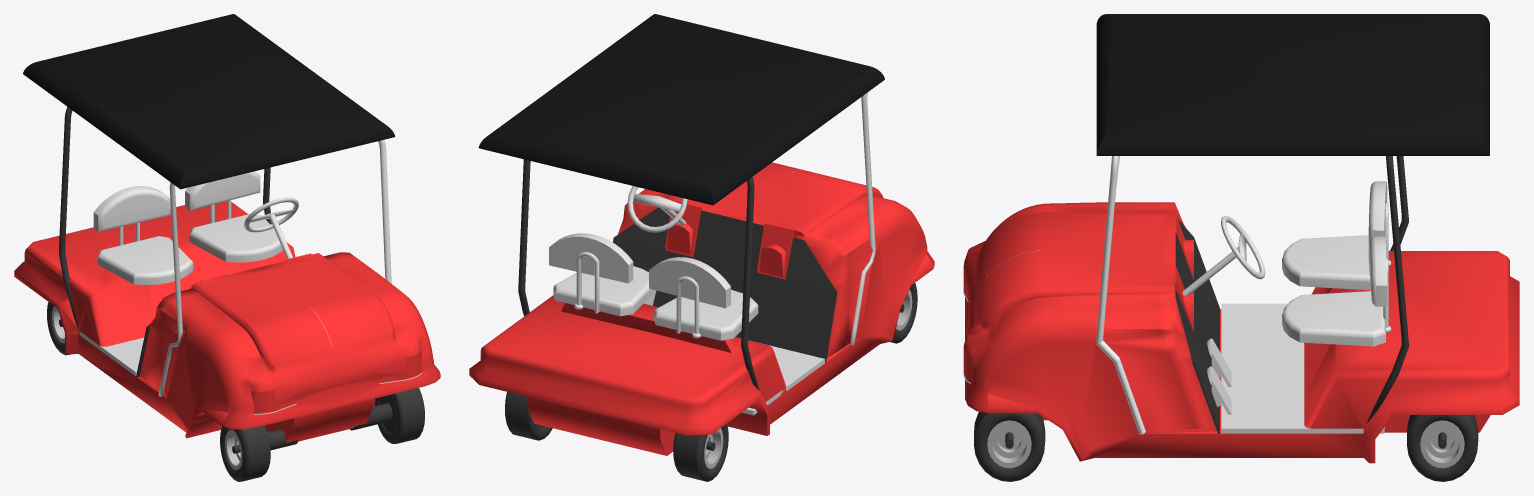
Rendered from bugey.fbx.
3 renders of one model, left to right at view 1: azimuth 30°, elevation 25°; view 2: azimuth 150°, elevation 25°; view 3: azimuth 270°, elevation 25°, orthographic. The views are drawn at different scales.
Parts seen in each view (by area): view 1: Group_021, Group_031, Group_013, Group_017, Group_010, Group_016, Group_012, Group_020, Group_025, Cylinder001, Group_032, Group_023 (+2 smaller); view 2: Group_021, Group_031, Layer0_001, Group_017, Group_013, Group_020, Group_016, Group_009, Group_025, Cylinder001, Group_032, Group_011 (+5 smaller); view 3: Group_021, Group_031, Group_032, Group_017, Group_012, Group_013, Group_011, Layer0_001, Group_023, Group_028, Group_020, Group_007 (+2 smaller).
Boxes of the visible parts, bbox=[...] form: Group_021: bbox=[14, 201, 440, 442]; Group_031: bbox=[23, 14, 395, 189]; Group_013: bbox=[97, 236, 193, 285]; Group_017: bbox=[189, 213, 282, 262]; Group_010: bbox=[220, 425, 298, 481]; Group_016: bbox=[93, 186, 170, 231]; Group_012: bbox=[350, 388, 424, 443]; Group_020: bbox=[185, 171, 260, 210]; Group_025: bbox=[59, 107, 79, 334]; Cylinder001: bbox=[158, 182, 182, 396]; Group_032: bbox=[79, 331, 143, 376]; Group_023: bbox=[378, 140, 391, 283]; Group_021: bbox=[469, 162, 934, 455]; Group_031: bbox=[478, 14, 884, 205]; Layer0_001: bbox=[613, 207, 837, 362]; Group_017: bbox=[553, 266, 655, 316]; Group_013: bbox=[654, 289, 758, 340]; Group_020: bbox=[549, 233, 633, 283]; Group_016: bbox=[649, 257, 730, 308]; Group_009: bbox=[673, 424, 728, 481]; Group_025: bbox=[741, 177, 759, 390]; Cylinder001: bbox=[850, 92, 875, 345]; Group_032: bbox=[735, 337, 824, 415]; Group_011: bbox=[505, 392, 552, 440]; Group_021: bbox=[963, 202, 1519, 463]; Group_031: bbox=[1096, 14, 1489, 155]; Group_032: bbox=[1221, 303, 1384, 433]; Group_017: bbox=[1282, 291, 1385, 346]; Group_012: bbox=[974, 411, 1045, 481]; Group_013: bbox=[1282, 235, 1370, 290]; Group_011: bbox=[1407, 415, 1478, 481]; Layer0_001: bbox=[1175, 219, 1219, 433]; Group_023: bbox=[1096, 156, 1145, 434]; Group_028: bbox=[1366, 156, 1408, 423]; Group_020: bbox=[1368, 236, 1387, 306]; Group_007: bbox=[1221, 215, 1265, 279].
Size of the model in its own units: 46.06 by 56.34 by 79.8.
